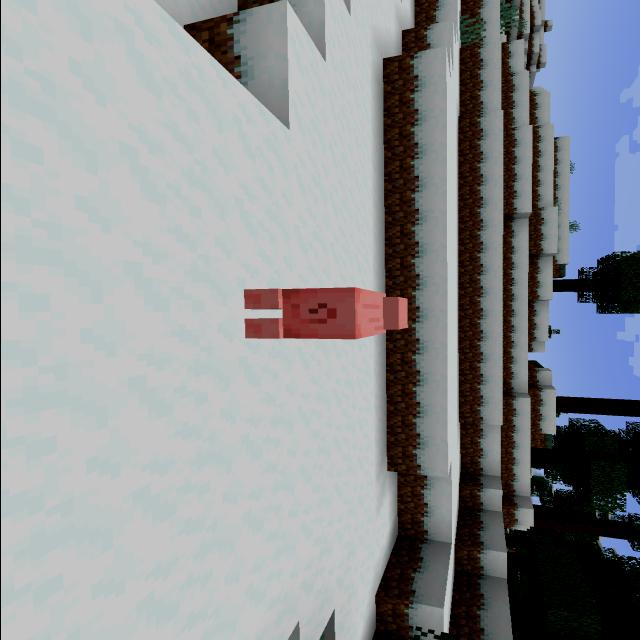pig: (222, 273, 423, 349)
